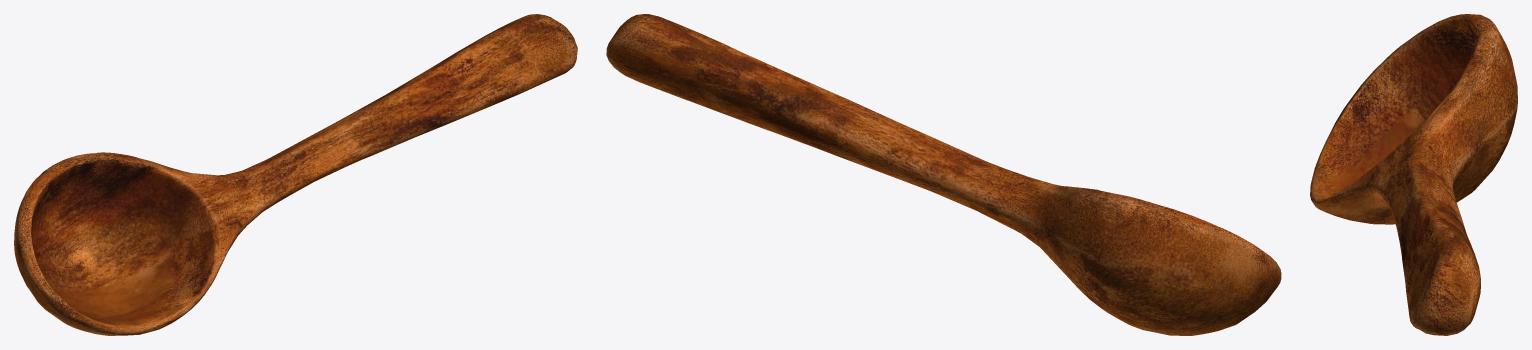
The model's file is rustic-wooden-spoon.glb.
The picture shows the model from 3 angles, left to right: view 1: azimuth 30°, elevation 25°; view 2: azimuth 150°, elevation 25°; view 3: azimuth 270°, elevation 25°; orthographic projection. The views are drawn at different scales.
Size of the model in its own units: 1.9 by 0.5885 by 0.4729.
Materials: 1 (1 with a texture image).
